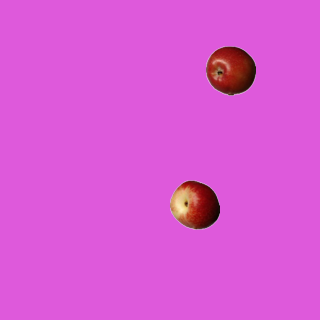Apple Braeburn: (205, 45, 255, 95)
Nectarine: (169, 179, 219, 229)
